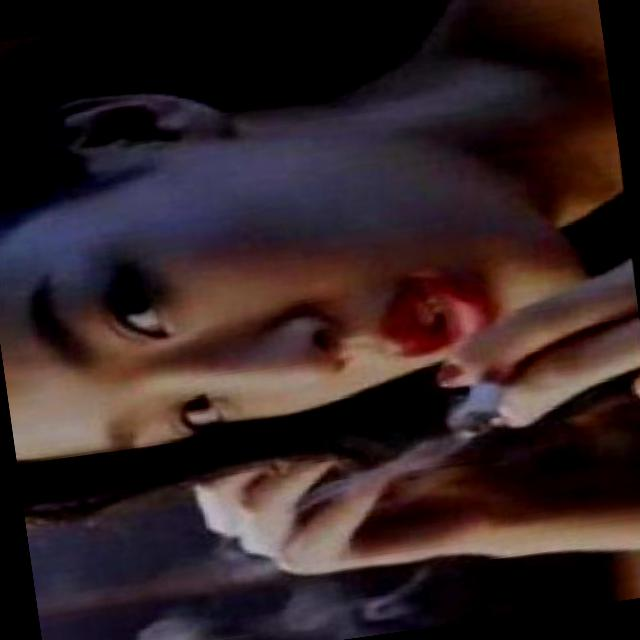cigarette: (448, 364, 516, 441)
